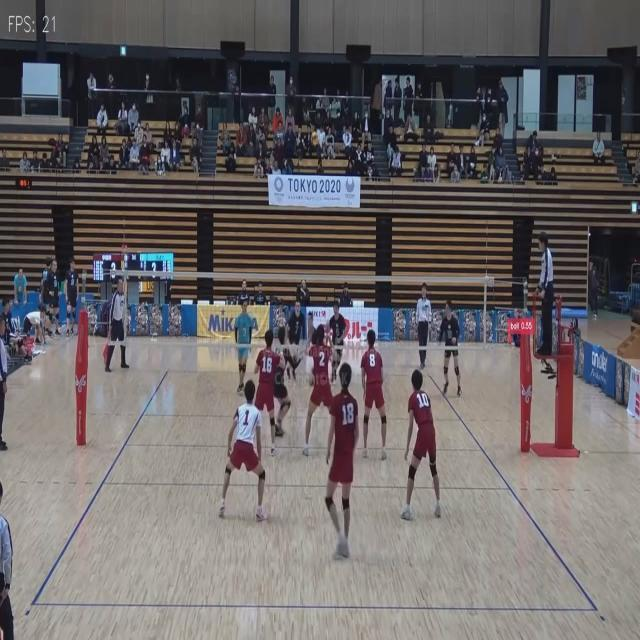volleyball: (312, 132, 321, 144)
